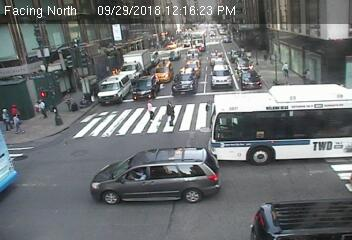car: (209, 85, 352, 160), (91, 152, 224, 203), (248, 199, 351, 240), (96, 74, 133, 103), (118, 51, 151, 78), (173, 67, 196, 95), (134, 76, 158, 101), (211, 64, 233, 90), (242, 71, 260, 90), (190, 30, 208, 49), (156, 62, 172, 83), (185, 60, 202, 75), (238, 57, 251, 73), (185, 47, 202, 58), (210, 51, 224, 64)
